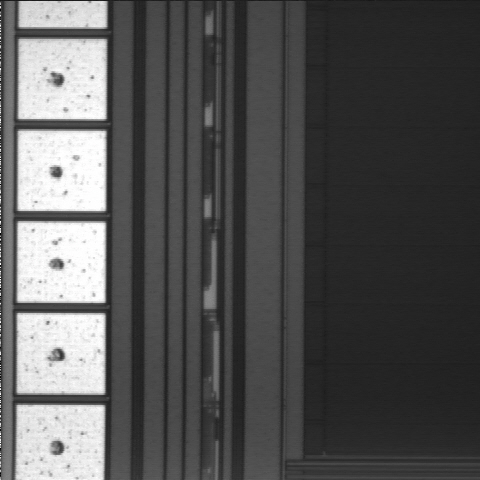pad: (17, 221, 106, 303), (17, 313, 105, 395), (18, 39, 106, 119), (18, 131, 106, 211)
